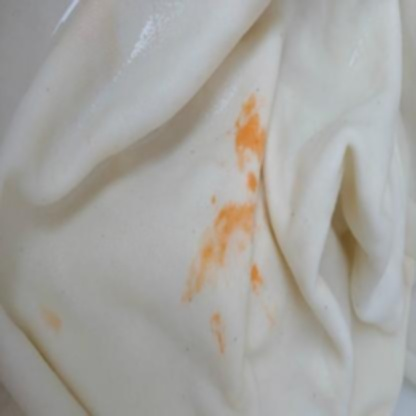kimchi: (180, 188, 262, 302), (221, 90, 283, 186), (203, 306, 238, 358), (248, 262, 272, 328), (40, 298, 72, 340)
